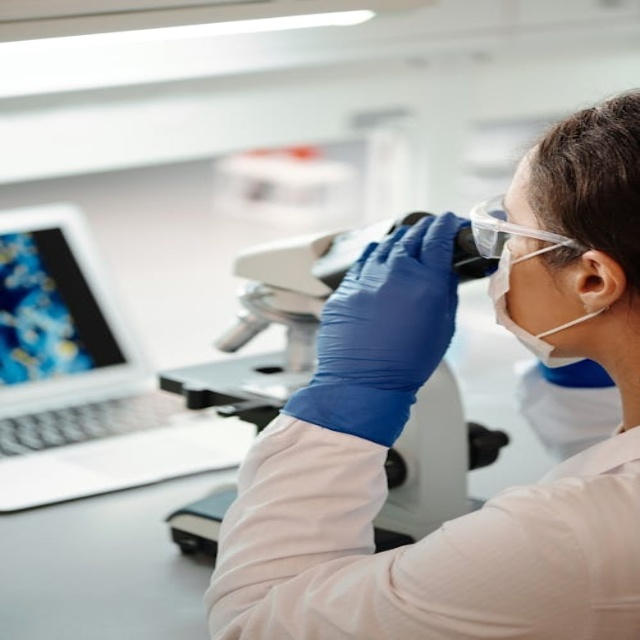Gafas: (467, 195, 594, 261)
Guantes: (270, 208, 463, 451)
Mascara: (488, 230, 606, 367)
